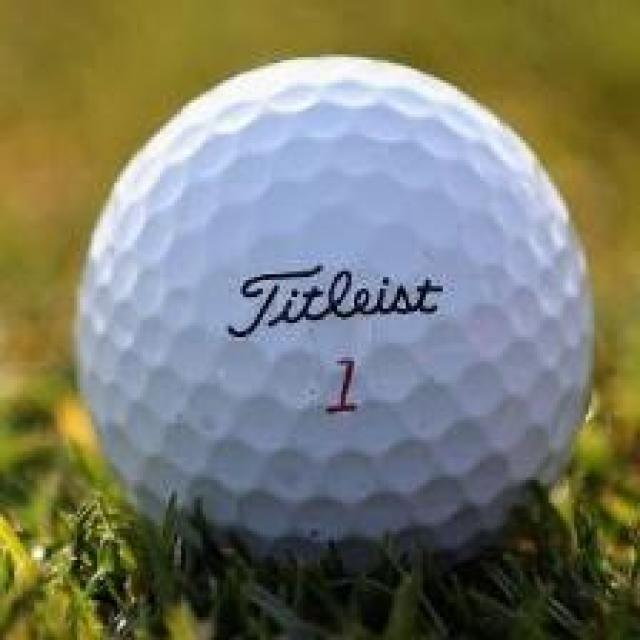golfball: (67, 36, 604, 562)
